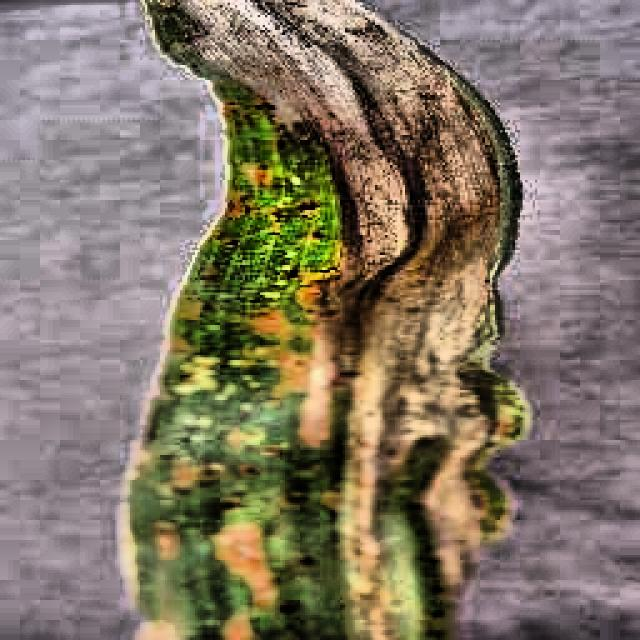blight: (152, 0, 524, 640)
